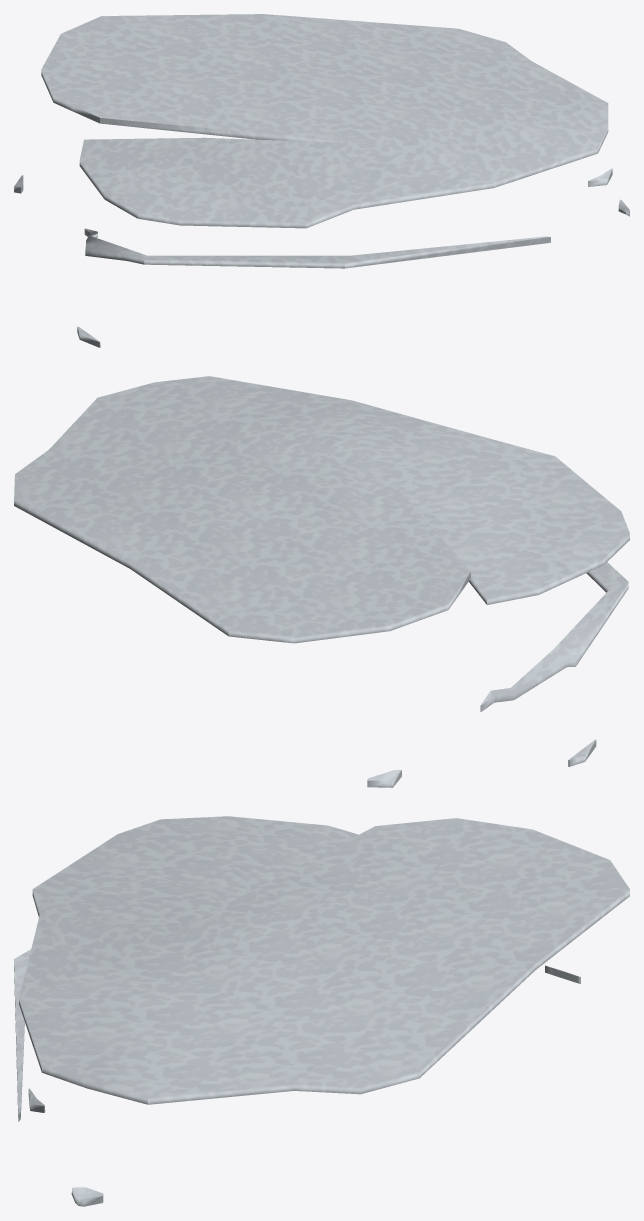
File: Cliff_2_Snow.fbx
The picture shows the model from 3 angles, top to bottom: view 1: azimuth 30°, elevation 25°; view 2: azimuth 150°, elevation 25°; view 3: azimuth 270°, elevation 25°; orthographic projection. The views are drawn at different scales.
Parts seen in each view (by area): view 1: Cliff_2_Snow; view 2: Cliff_2_Snow; view 3: Cliff_2_Snow.
Part boxes in pixels (<box>): Cliff_2_Snow: <box>14,14,629,347</box>; Cliff_2_Snow: <box>14,376,629,787</box>; Cliff_2_Snow: <box>14,816,629,1206</box>.
Size of the model in its own units: 6963 by 2501 by 6378.
